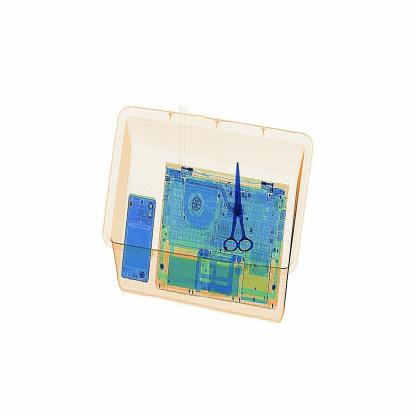gun: (217, 158, 266, 258)
